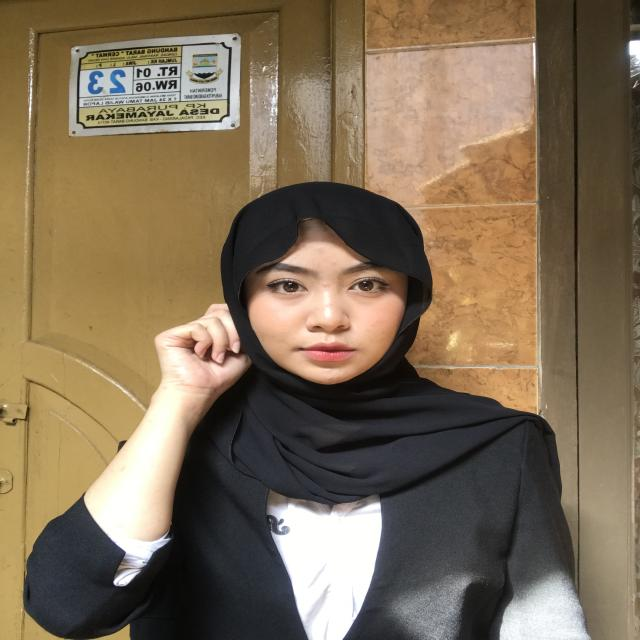ibu: (110, 292, 276, 452)
